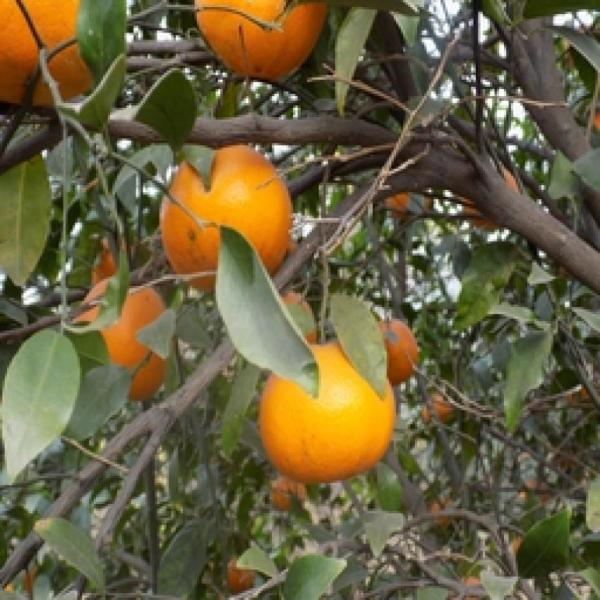Sana: (160, 140, 299, 299), (257, 337, 404, 480), (60, 274, 178, 404), (0, 0, 119, 116), (189, 0, 326, 86), (355, 302, 425, 380), (458, 155, 522, 238), (76, 226, 140, 292), (254, 291, 323, 350), (269, 472, 316, 513), (418, 389, 461, 433), (213, 556, 257, 591)
